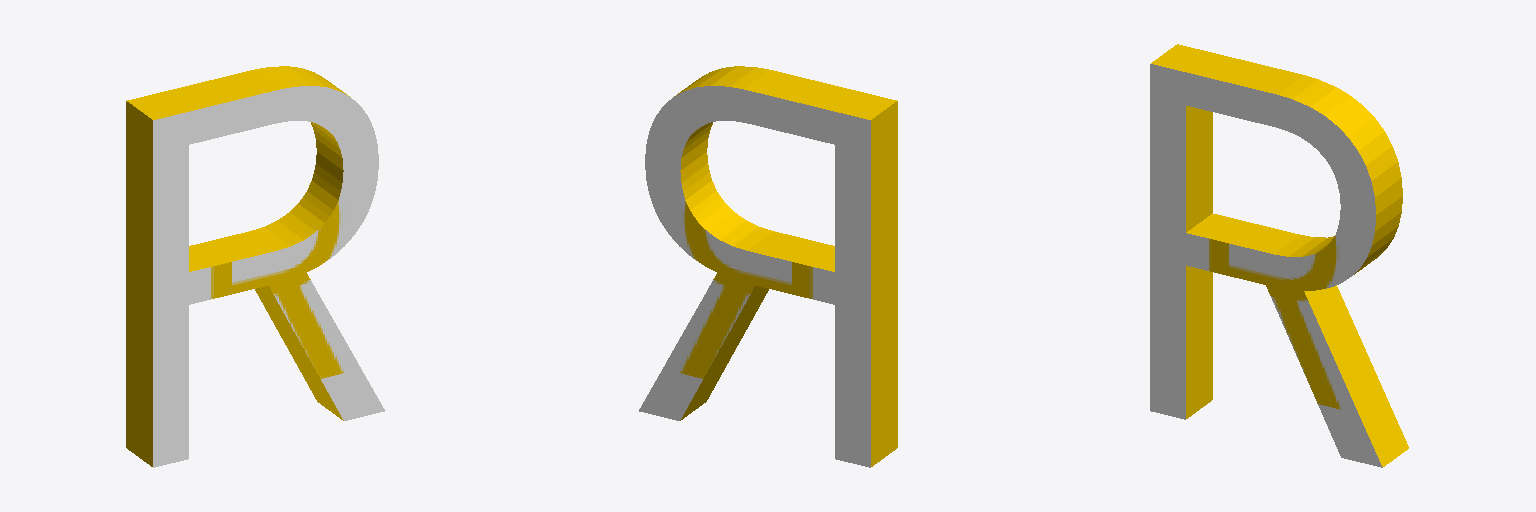
The picture shows the model from 3 angles: view 1: azimuth 30°, elevation 25°; view 2: azimuth 150°, elevation 25°; view 3: azimuth 330°, elevation 25°; orthographic projection.
Size of the model in its own units: 56.39 by 80.63 by 11.28.
5 materials, 1 textured.